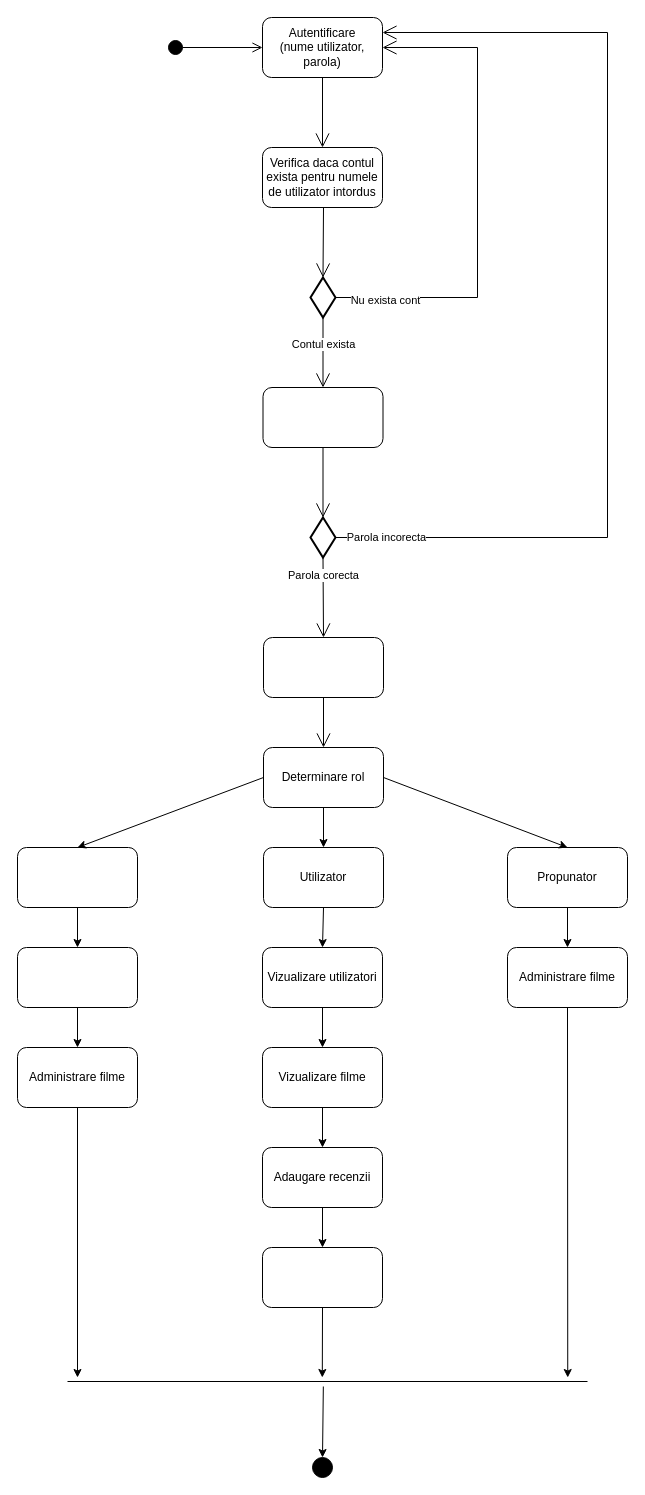
Some shapes in this 645 by 1495 pixel diagram are drawn without their labels. Each missing label, with the centre of its shape:
"Adaugare comentarii" goes at (x=322, y=1277).
"Administrare utilizatori" goes at (x=77, y=977).
"Administrator" goes at (x=77, y=877).
"Autentificare reusita" goes at (x=323, y=667).
"Verificare parola corecta" goes at (x=322, y=417).
